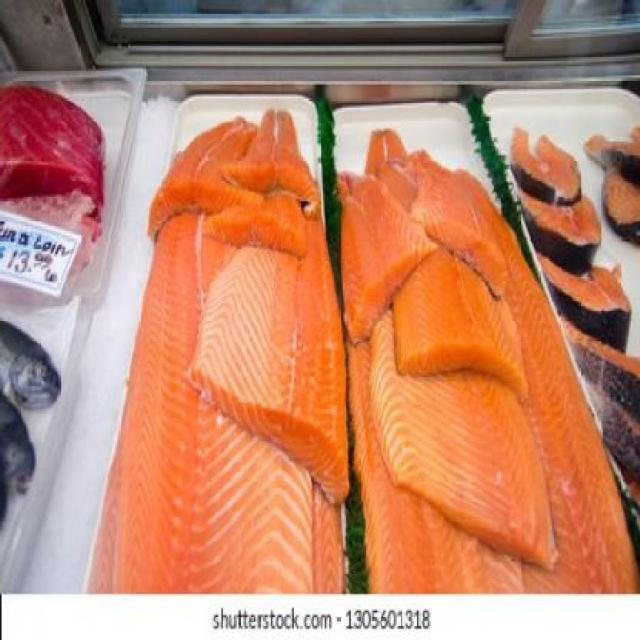salmon: (105, 88, 347, 595), (334, 103, 528, 592), (191, 149, 355, 506), (364, 294, 564, 581), (375, 146, 540, 405), (329, 151, 440, 343), (136, 112, 278, 222), (412, 150, 515, 296), (204, 169, 314, 263), (234, 94, 319, 199)
